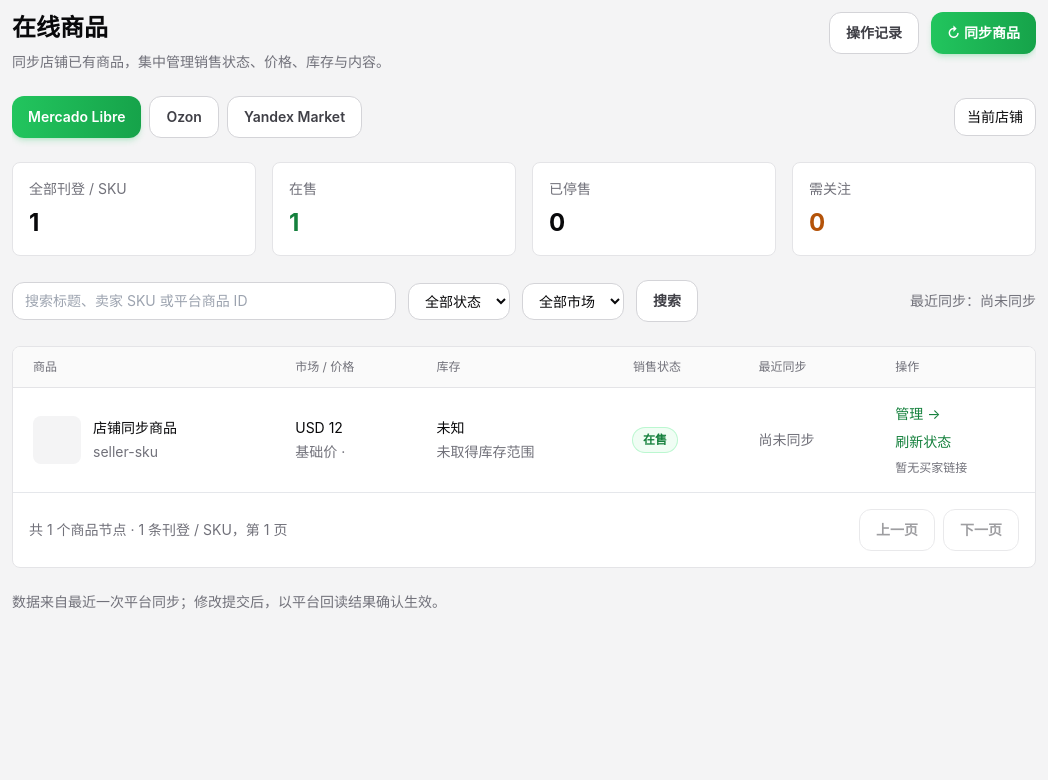
Test case: 在线商品页面 › 刷新之前发出的列表旧响应不能覆盖新状态
The width and height of the screenshot is (1048, 780).
Click the button with test id "refresh-status". click: click(923, 442)
box: 895,432 -> 951,452
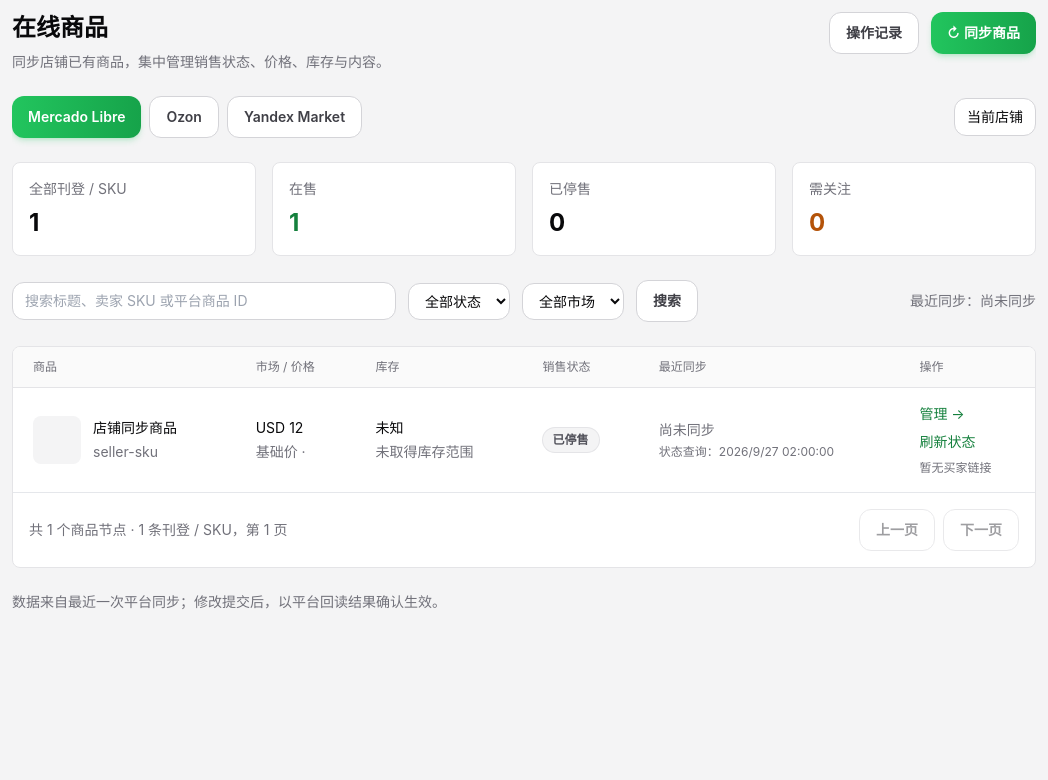
Result: the row with test id "online-listing" shows "已停售" at 553,432 -> 589,447
